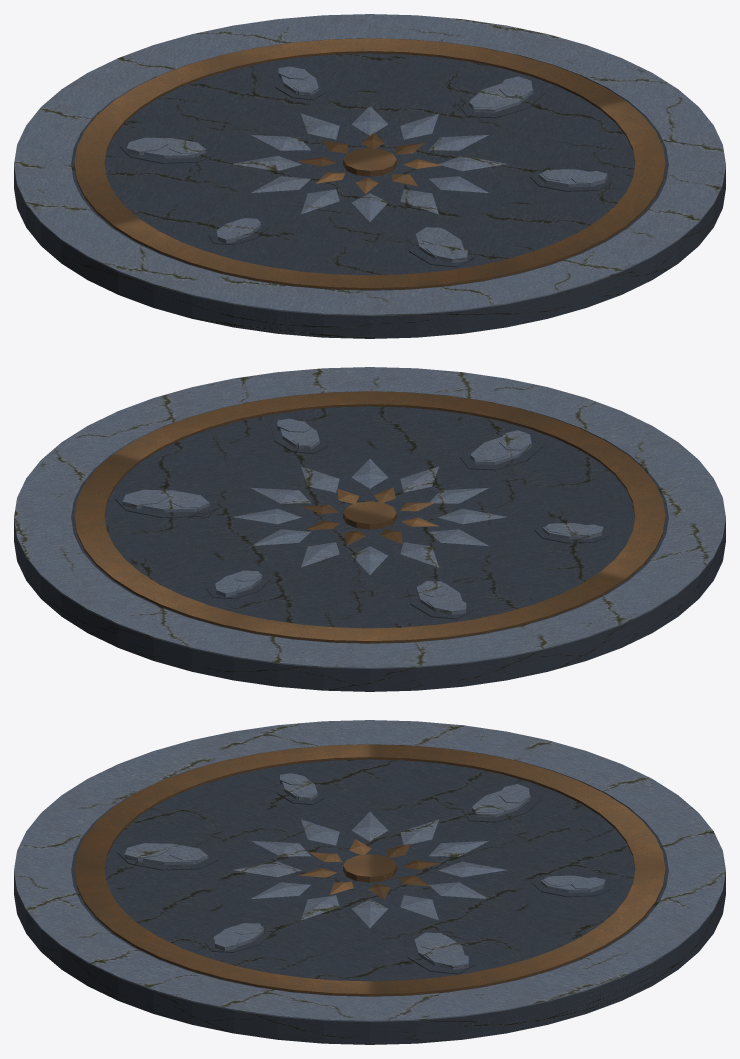
Rendered from arena_center.glb.
3 renders of one model, top to bottom at view 1: azimuth 30°, elevation 25°; view 2: azimuth 150°, elevation 25°; view 3: azimuth 270°, elevation 25°, orthographic.
Visible parts, largest first — view 1: arena_center; view 2: arena_center; view 3: arena_center.
Part boxes in pixels (x1,y1,x2,y2): arena_center: [14, 14, 725, 338]; arena_center: [14, 367, 725, 691]; arena_center: [14, 720, 725, 1044].
Size of the model in its own units: 4.24 by 0.19 by 4.24.
3 materials, 3 textured.
